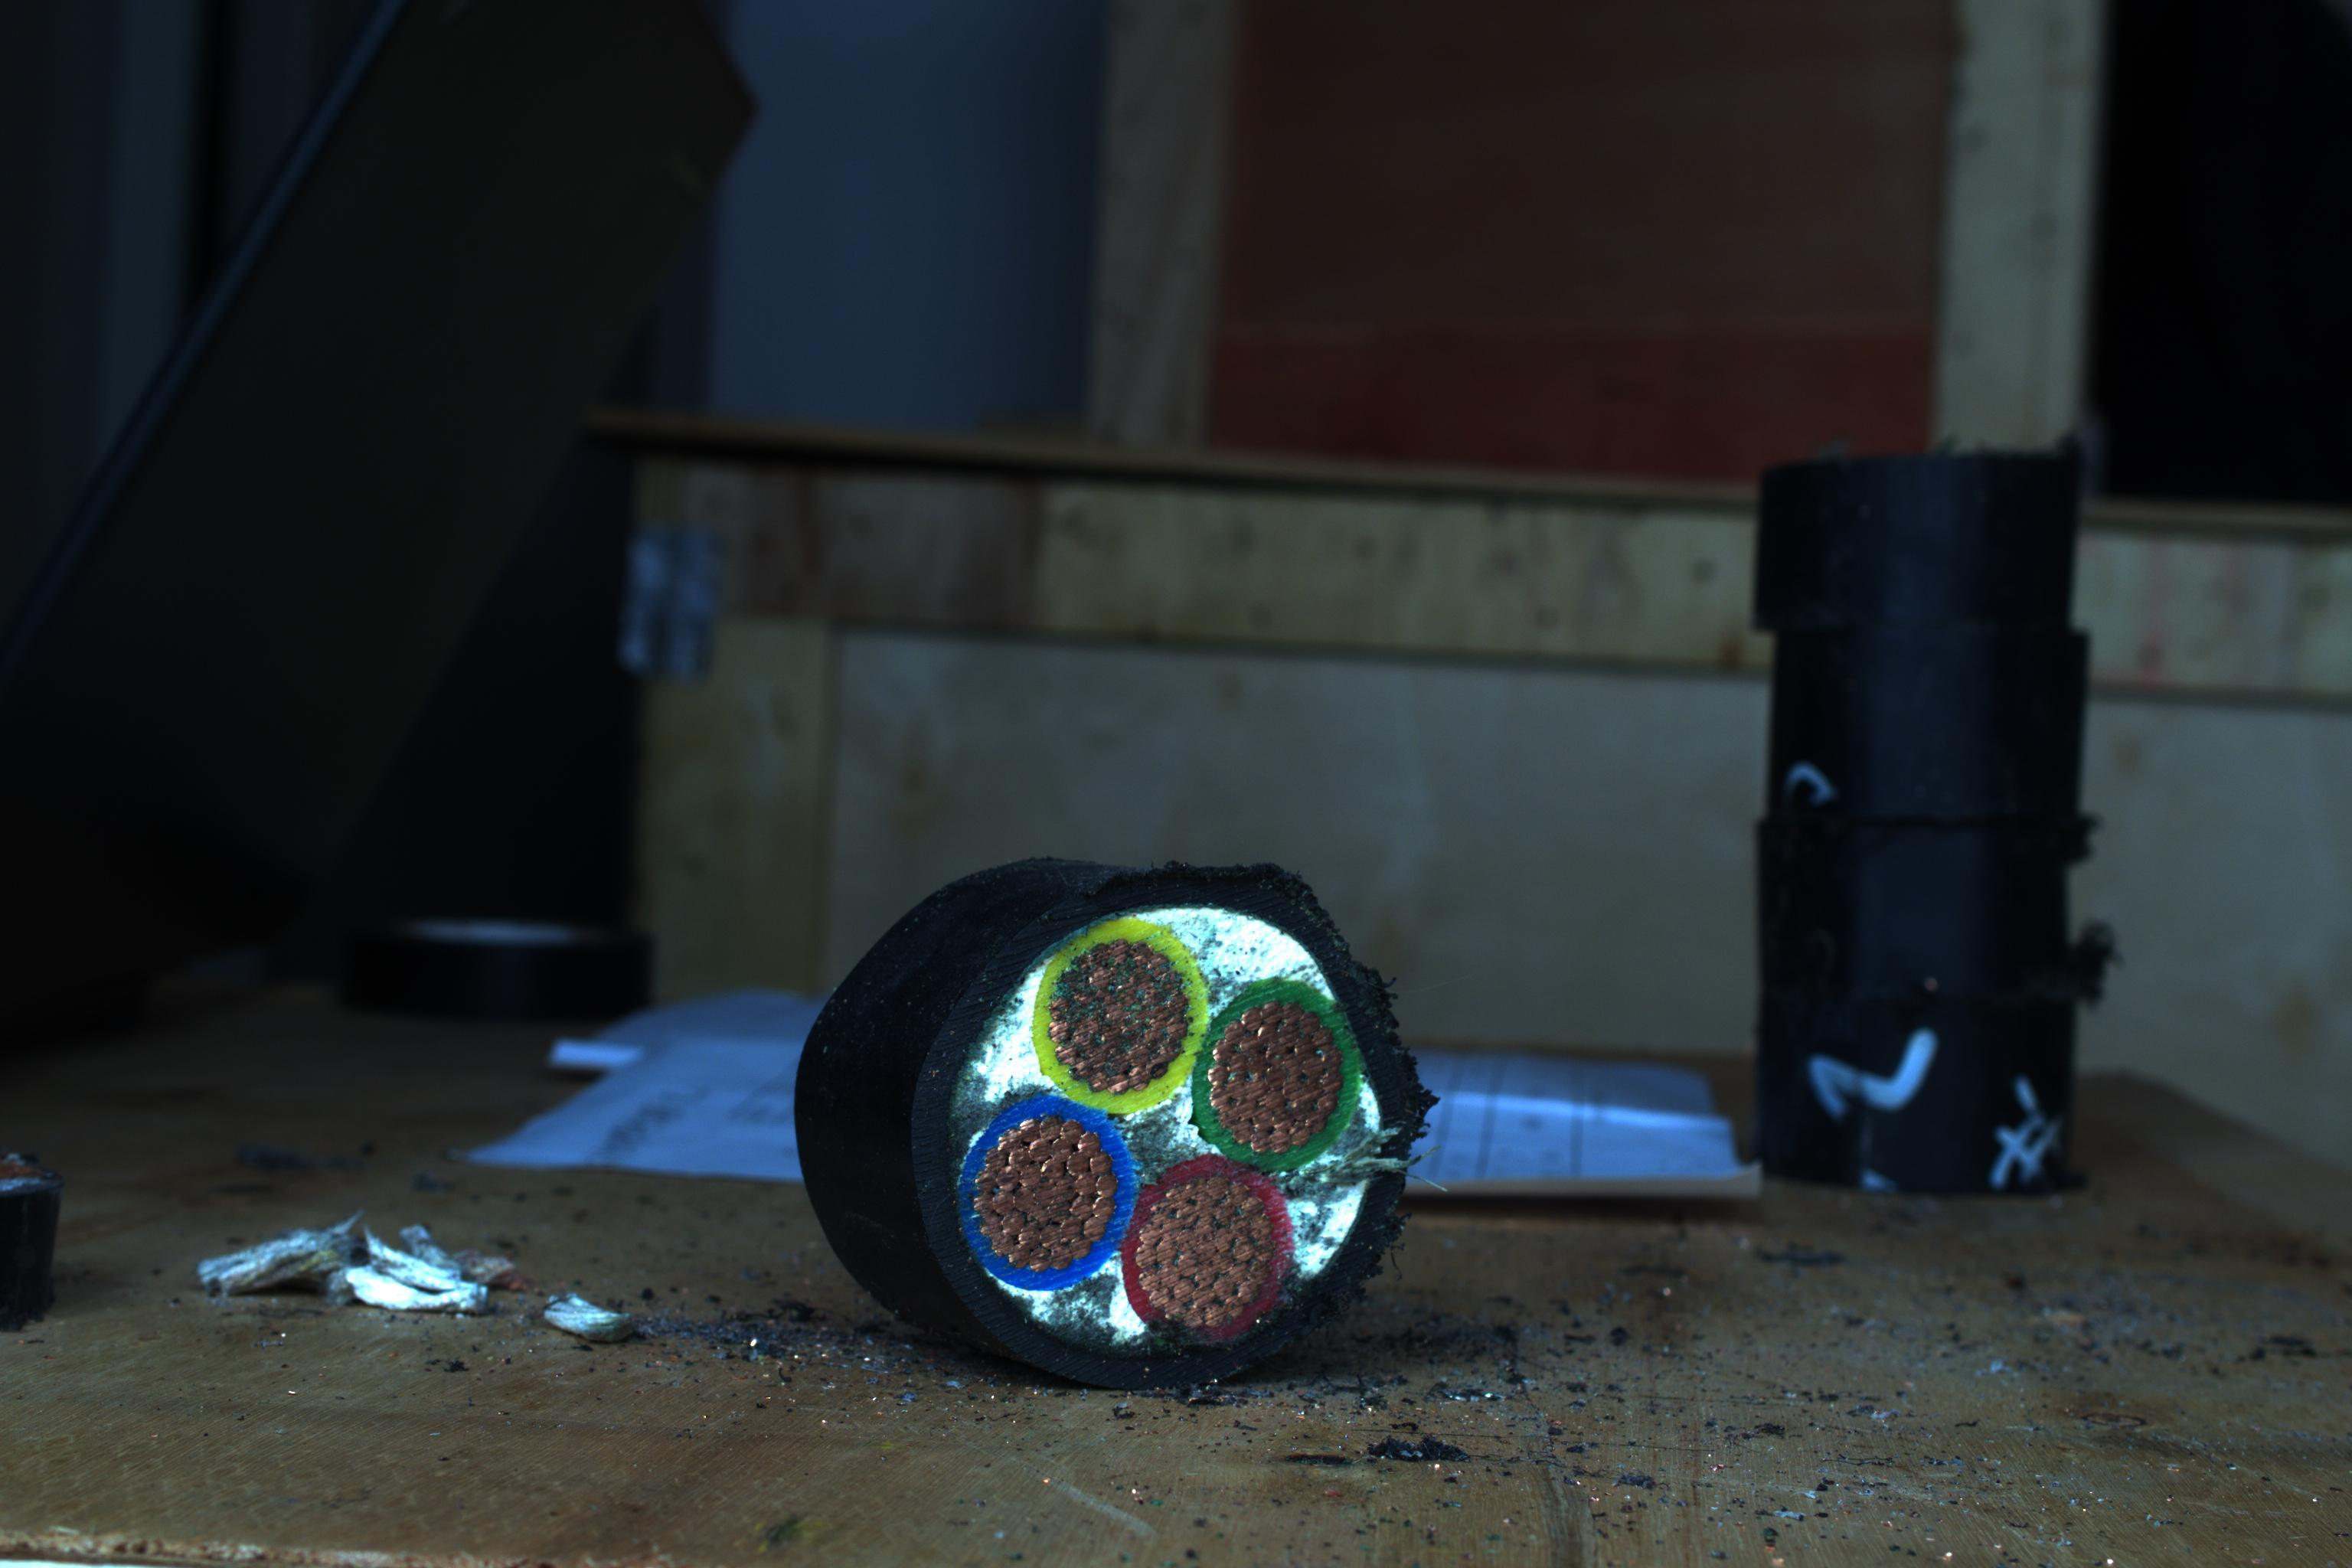YJV_0.6_1kV_4x185: (922, 871, 1407, 1337)
